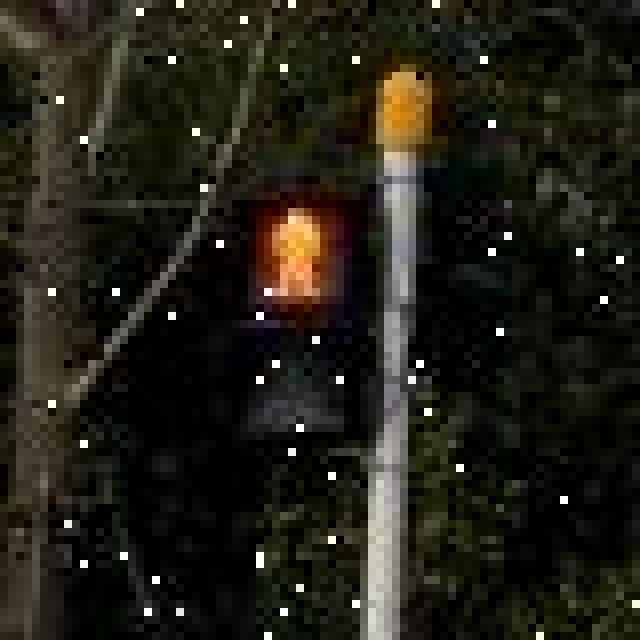redlight: (220, 173, 375, 453)
